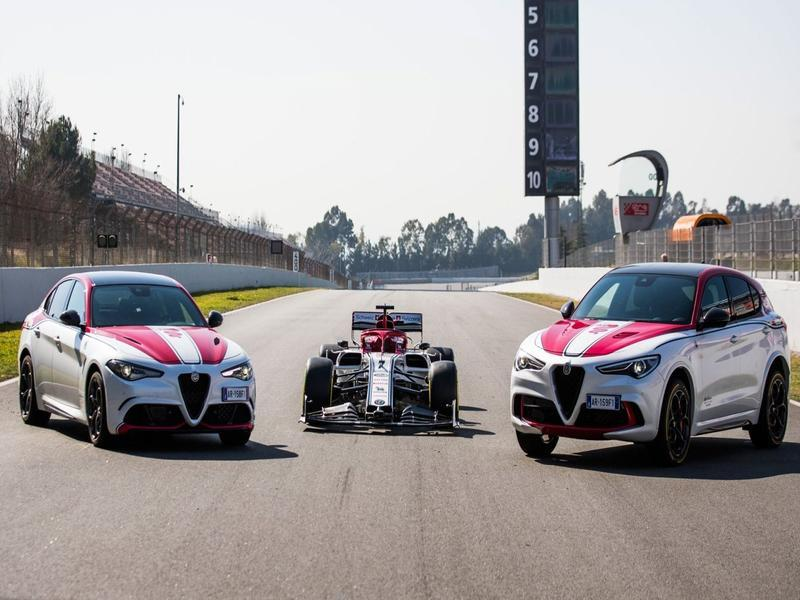f1: (315, 294, 461, 442)
